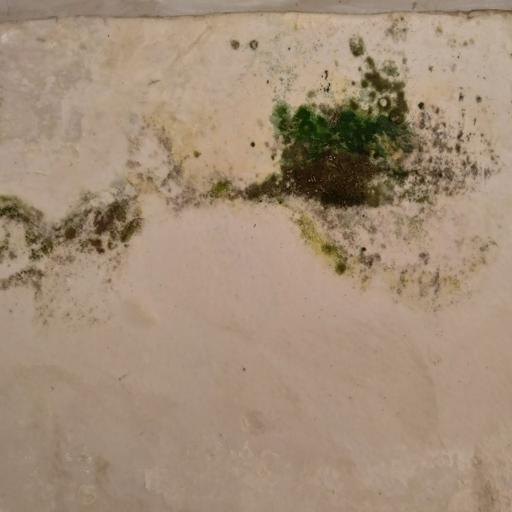algae: (12, 9, 512, 315)
